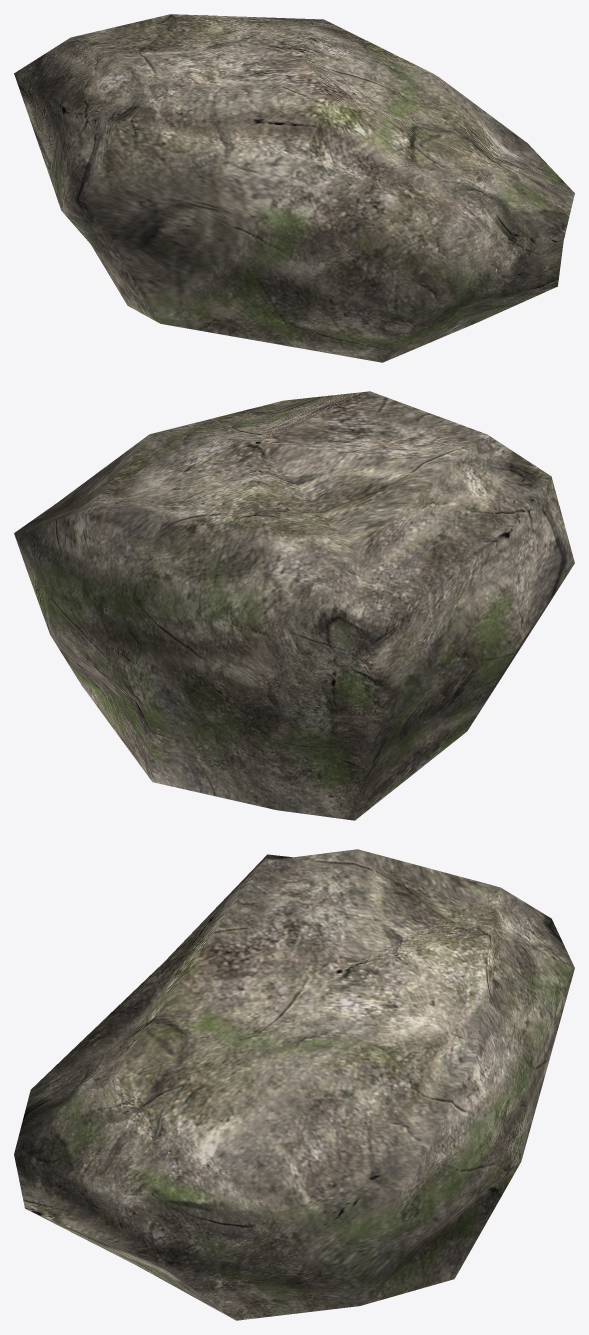
File: rock_0.obj
3 views of the same model, one above another, from view 1: azimuth 30°, elevation 25°; view 2: azimuth 150°, elevation 25°; view 3: azimuth 270°, elevation 25° (orthographic). The views are drawn at different scales.
Visible parts, largest first — view 1: rocks.002; view 2: rocks.002; view 3: rocks.002.
Boxes of the visible parts, <box> form: rocks.002: <box>14,14,574,362</box>; rocks.002: <box>14,391,574,820</box>; rocks.002: <box>14,849,574,1320</box>.
Size of the model in its own units: 0.8478 by 0.5722 by 0.847.
1 material, 1 textured.
